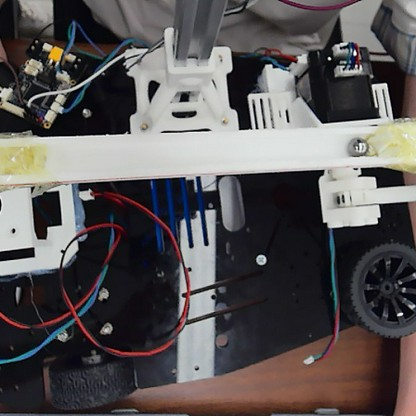ironball: (346, 135, 370, 157)
